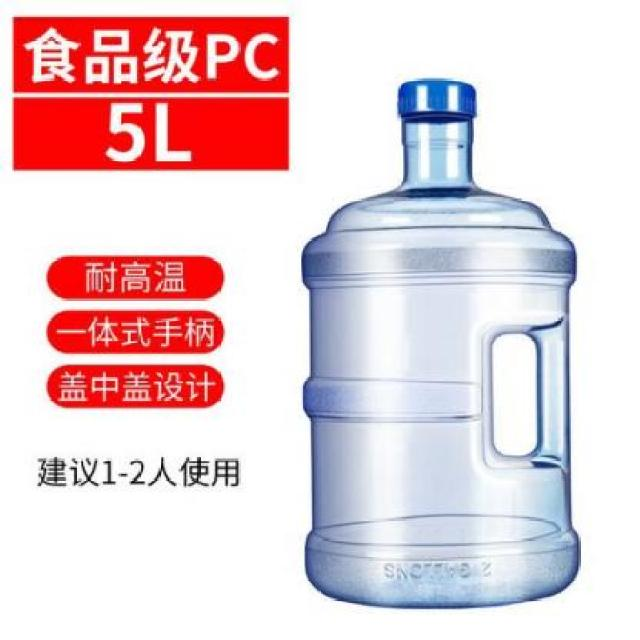coolerbottle: (303, 74, 584, 614)
